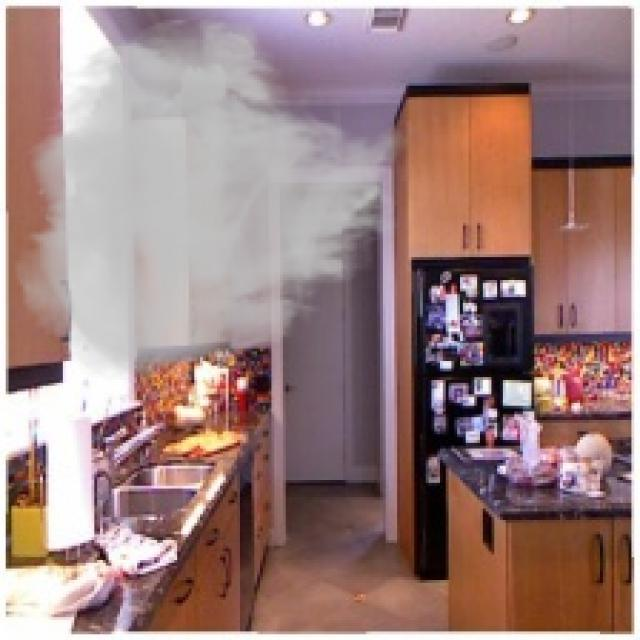Smoke: (11, 14, 412, 383)
